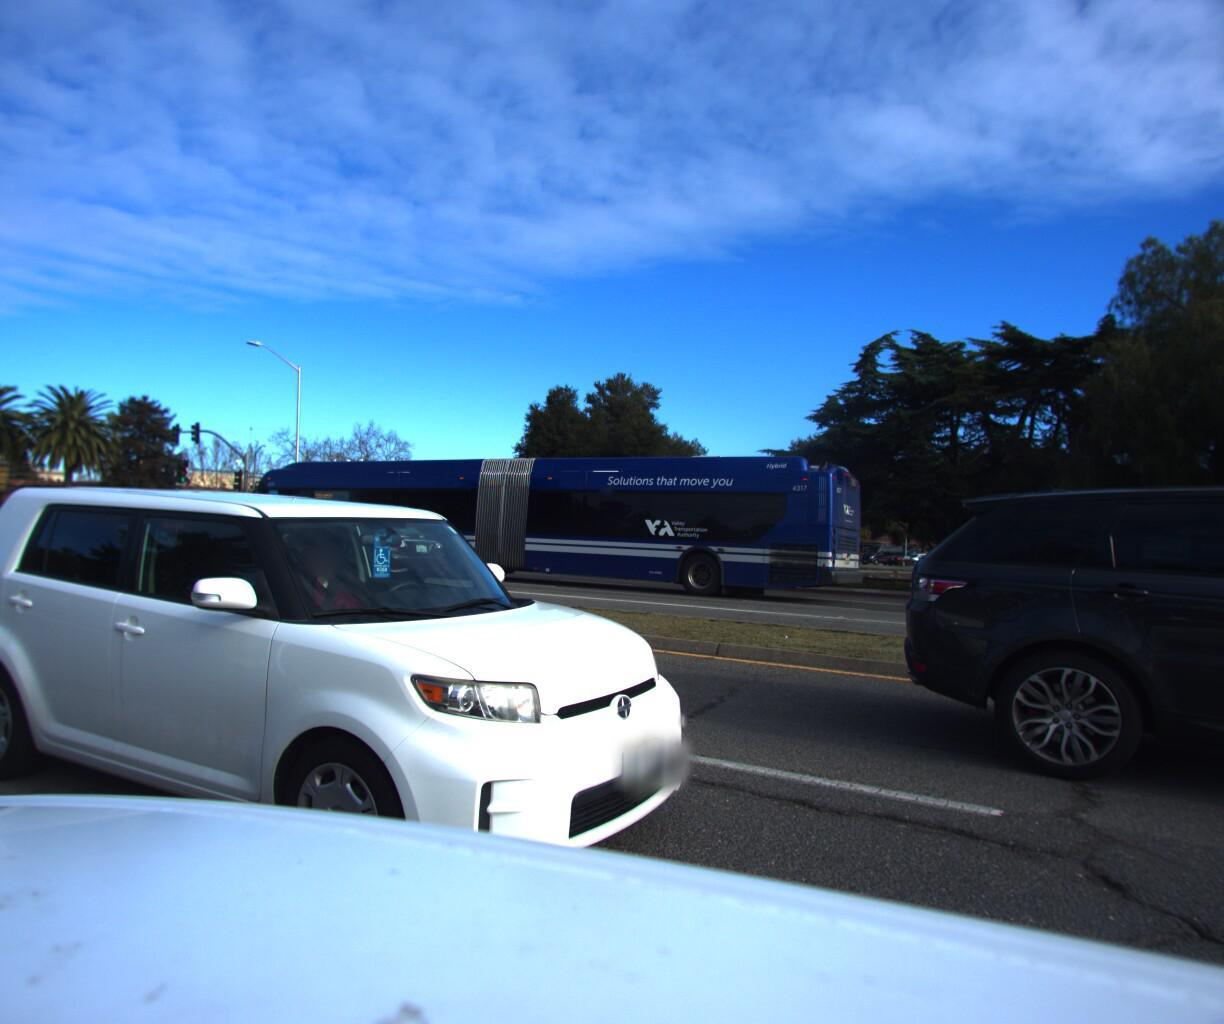bus: (221, 440, 880, 612)
car: (0, 482, 757, 1009), (868, 475, 1224, 980), (1178, 528, 1224, 683), (0, 502, 49, 541)
